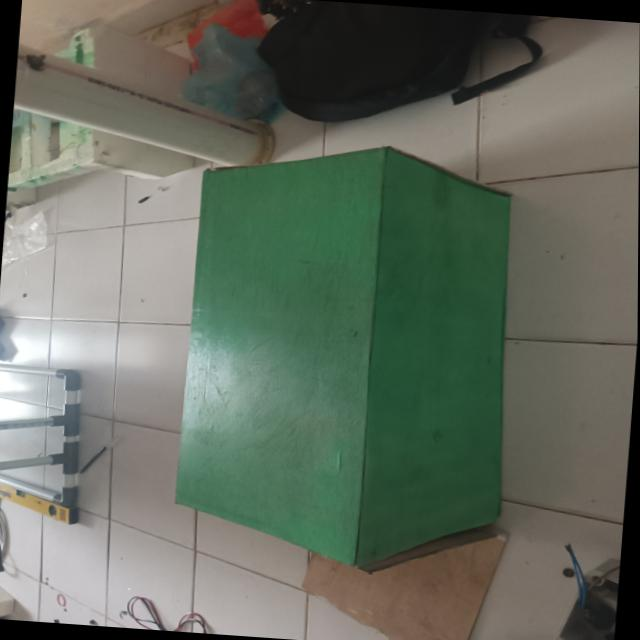green_box: (160, 147, 539, 568)
